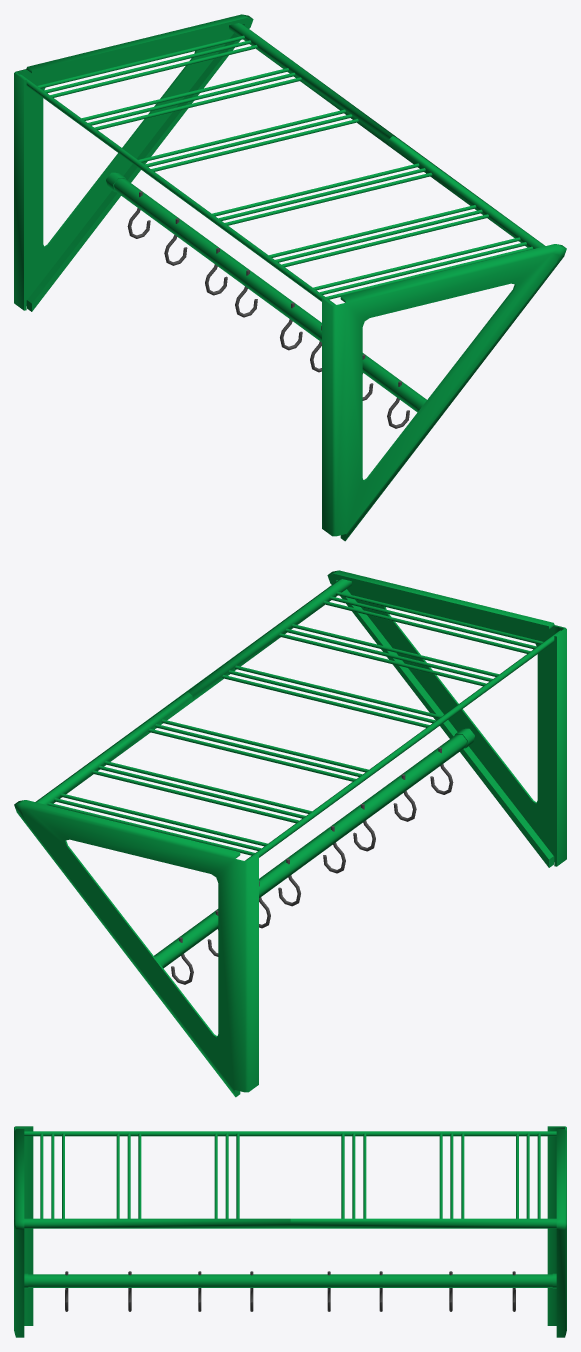
The model's file is Hanger.fbx.
3 renders of one model, top to bottom at view 1: azimuth 30°, elevation 25°; view 2: azimuth 150°, elevation 25°; view 3: azimuth 270°, elevation 25°, orthographic. The views are drawn at different scales.
Parts seen in each view (by area): view 1: Hanger; view 2: Hanger; view 3: Hanger.
Part boxes in pixels (x1,y1,x2,y2): Hanger: (14, 14, 566, 541); Hanger: (14, 570, 566, 1097); Hanger: (14, 1126, 566, 1337).
Bounding box in the file's own units: 26.32 × 25.91 × 62.22.
